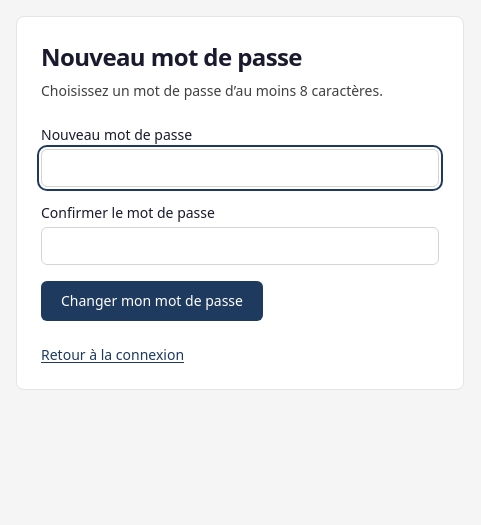
Test: /reinitialiser-mot-de-passe › répète le message du backend SANS l’interpréter
Type "nouveau-mdp-1" into the password field labelled "Nouveau mot de passe" at (240, 168), box top-left (41, 149), bottom-right (439, 187)
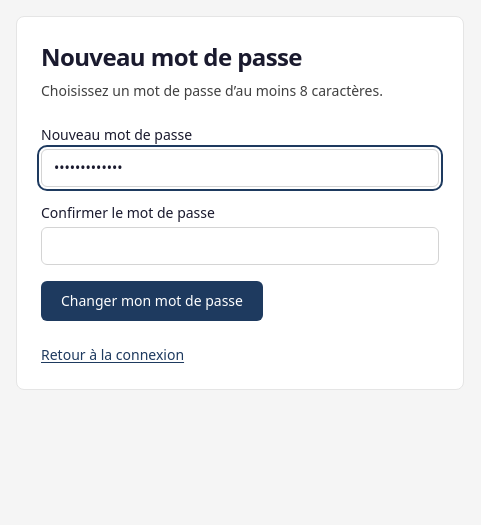
Type "nouveau-mdp-1" into the password field labelled "Confirmer le mot de passe" at (240, 246), box top-left (41, 227), bottom-right (439, 265)
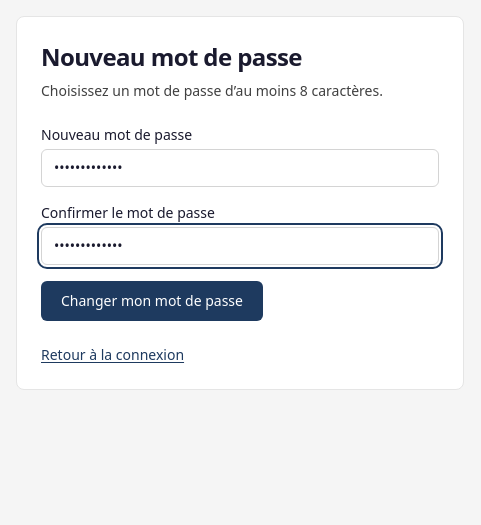
Click the button "Changer mon mot de passe" at (152, 301), box top-left (41, 281), bottom-right (263, 321)
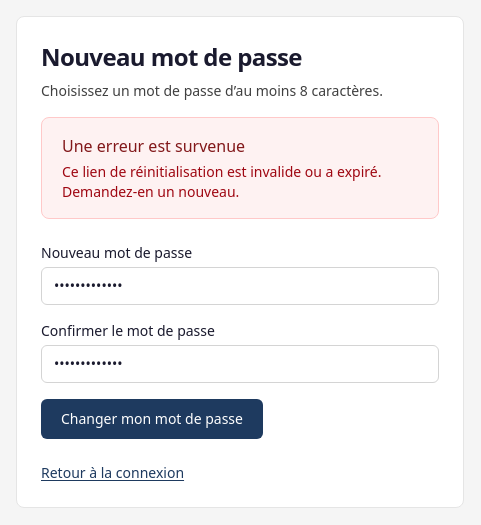
Expected: the message shows "invalide ou a expiré", top-left (62, 162), bottom-right (382, 201)
